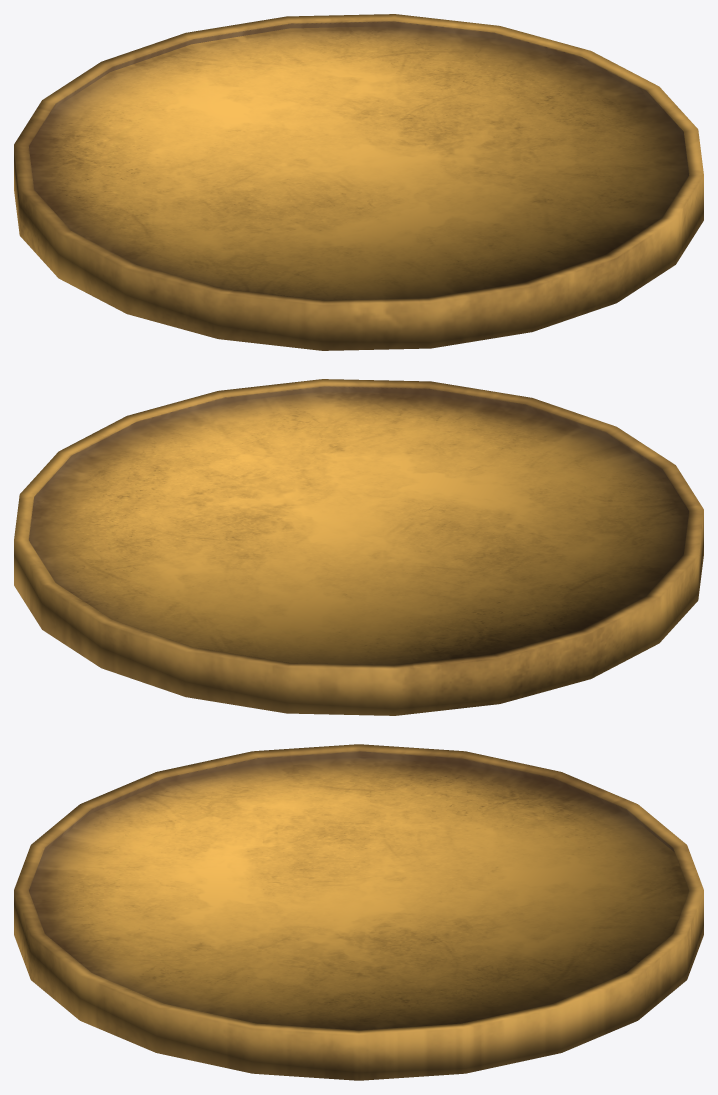
The model's file is coin.obj.
3 views of the same model, one above another, from view 1: azimuth 30°, elevation 25°; view 2: azimuth 150°, elevation 25°; view 3: azimuth 270°, elevation 25° (orthographic).
Visible parts, largest first — view 1: Doubloon; view 2: Doubloon; view 3: Doubloon.
Part boxes in pixels (bbox=[...]): Doubloon: bbox=[14, 14, 703, 350]; Doubloon: bbox=[14, 379, 703, 715]; Doubloon: bbox=[14, 744, 703, 1080].
Size of the model in its own units: 2.53 by 0.1852 by 2.53.
